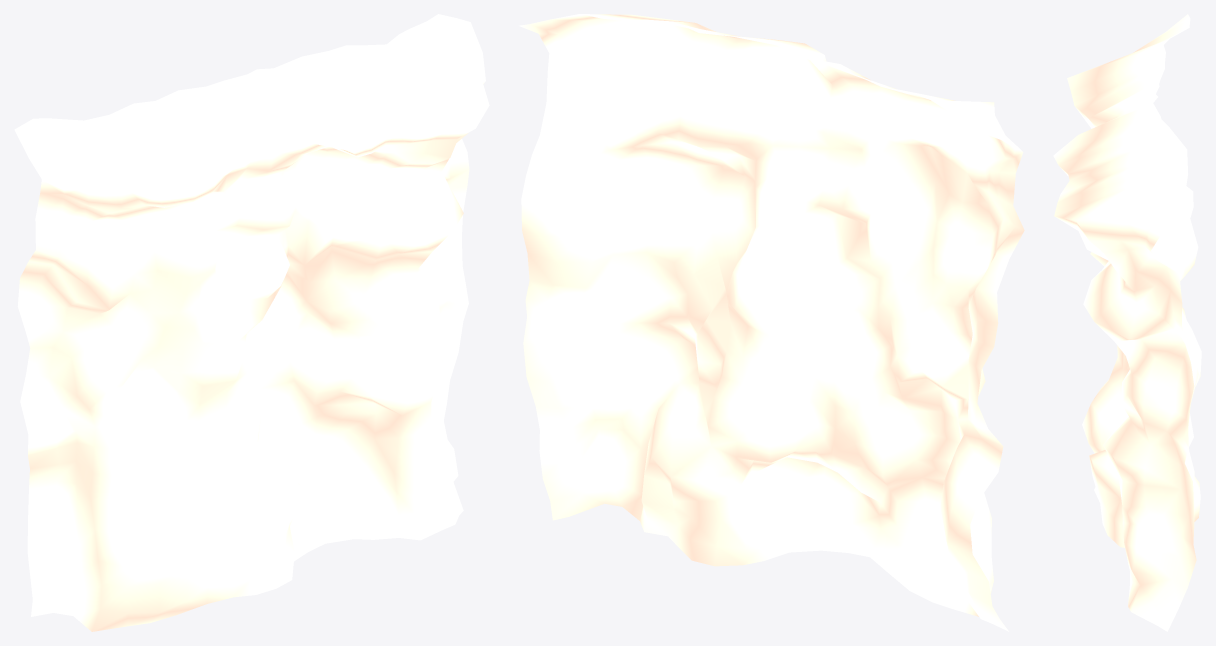
File: GeoCliff1.fbx
The picture shows the model from 3 angles, left to right: view 1: azimuth 30°, elevation 25°; view 2: azimuth 150°, elevation 25°; view 3: azimuth 270°, elevation 25°; orthographic projection. The views are drawn at different scales.
Parts seen in each view (by area): view 1: GeoCliff1; view 2: GeoCliff1; view 3: GeoCliff1.
Part boxes in pixels (<box>): GeoCliff1: <box>14,14,489,631</box>; GeoCliff1: <box>519,14,1024,631</box>; GeoCliff1: <box>1053,14,1201,631</box>.
Size of the model in its own units: 303 by 323 by 95.69.
